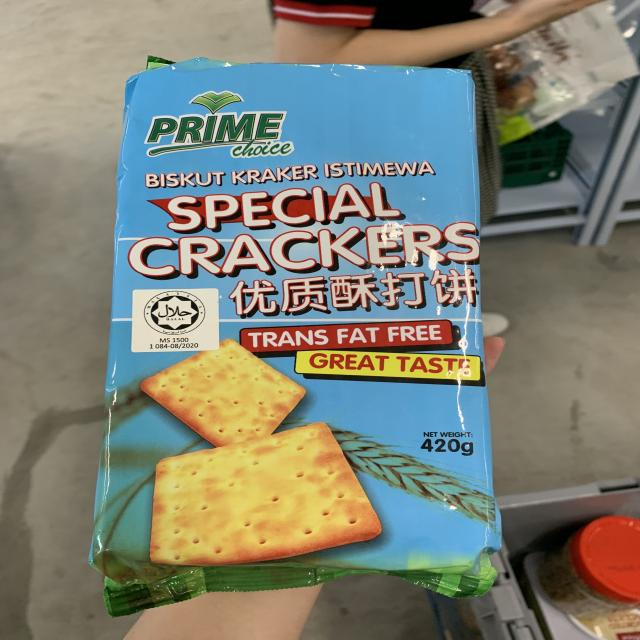object_name: (122, 68, 491, 594)
